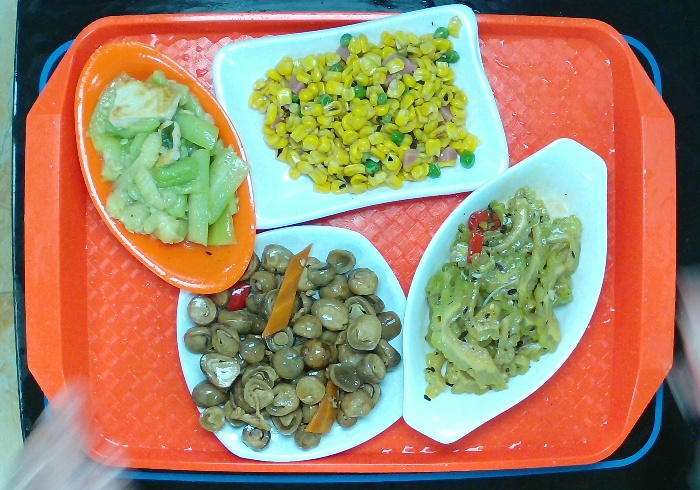RJxy-Ju_Huang_Tuo_Yuan: (73, 34, 257, 291)
RJxy-Si_Fang_Ao_Bian_Wan: (207, 1, 511, 233)
RJxy-Si_Fang_Die: (174, 223, 417, 461)
RJxy-Yu_Pan: (402, 139, 611, 441)
